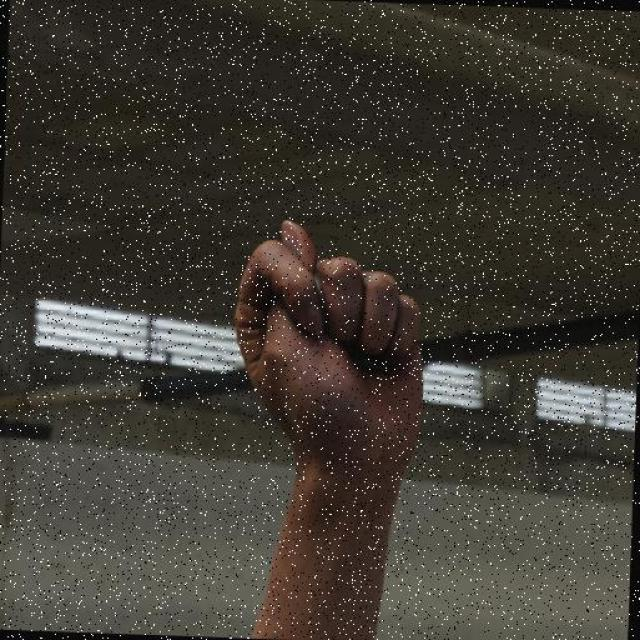T: (226, 215, 438, 475)
